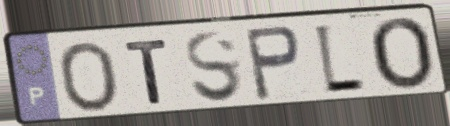L: (310, 22, 368, 98)
O: (366, 15, 436, 93), (55, 39, 122, 114)
P: (242, 23, 304, 103)
S: (182, 29, 247, 106)
T: (122, 36, 172, 106)
